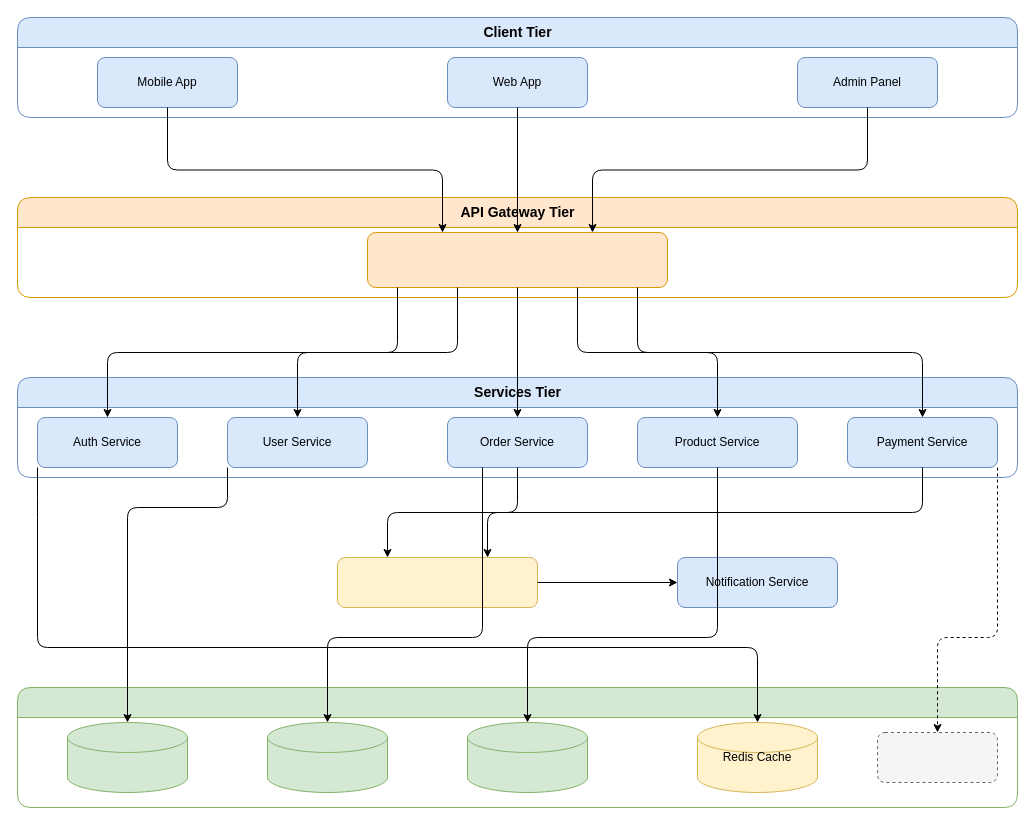
The diagram is 1035 pixels wide and 825 high, and some of its shapes have lost their labels. Here are the shapes that lost their labels. From the top down, the box of each, then its label:
(366, 232, 668, 288): API Gateway Auth + Rate Limit + Routing
(336, 556, 538, 608): Kafka Message Queue
(66, 722, 188, 792): User DB
(266, 722, 388, 792): Order DB
(16, 686, 1018, 808): Data Tier
(466, 722, 588, 792): Product DB
(876, 732, 998, 782): Stripe API
